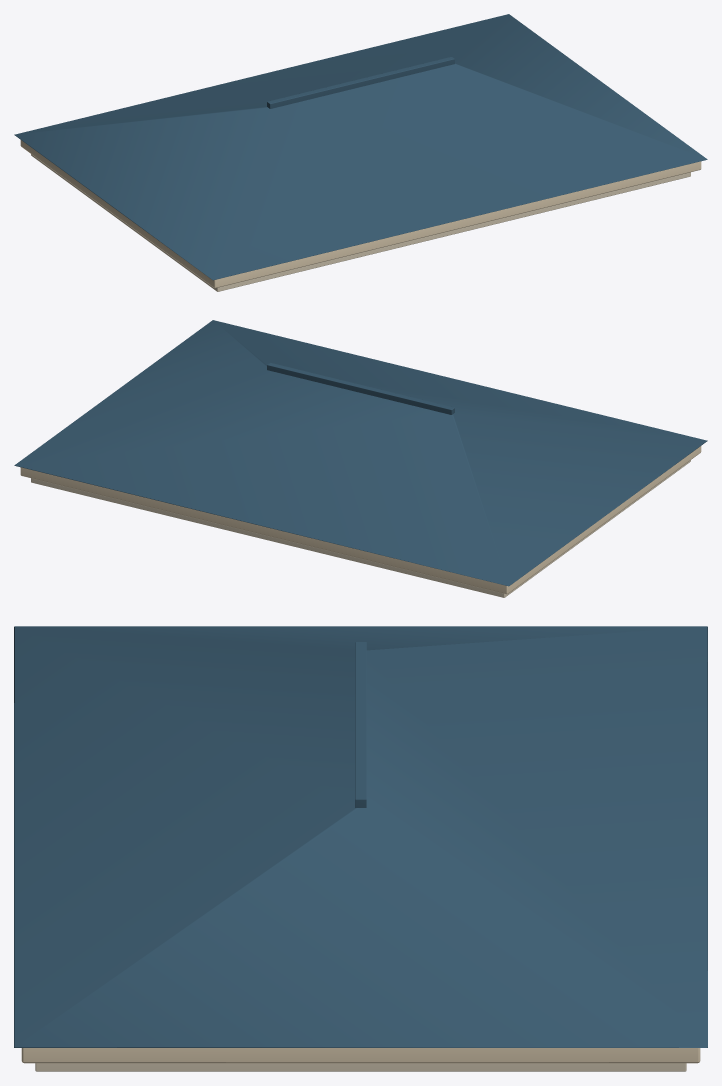
The model's file is RoomRoof_6x4m.fbx.
3 views of the same model, one above another, from view 1: azimuth 30°, elevation 25°; view 2: azimuth 150°, elevation 25°; view 3: azimuth 270°, elevation 25° (orthographic). The views are drawn at different scales.
Parts seen in each view (by area): view 1: RoomRoof_6x4m.001; view 2: RoomRoof_6x4m.001; view 3: RoomRoof_6x4m.001.
Boxes of the visible parts, x1,y1,x2,y2 form: RoomRoof_6x4m.001: [14, 14, 707, 291]; RoomRoof_6x4m.001: [14, 320, 707, 597]; RoomRoof_6x4m.001: [14, 626, 707, 1071].
Size of the model in its own units: 6.58 by 1.09 by 4.58.
